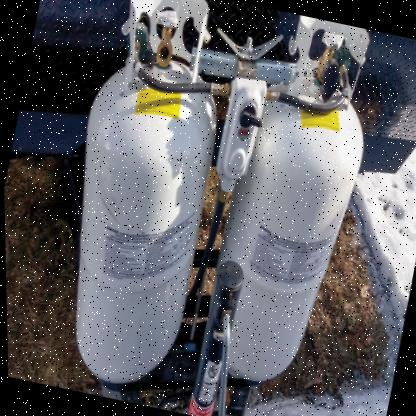gas-tank: (25, 0, 268, 408), (186, 7, 393, 402)
